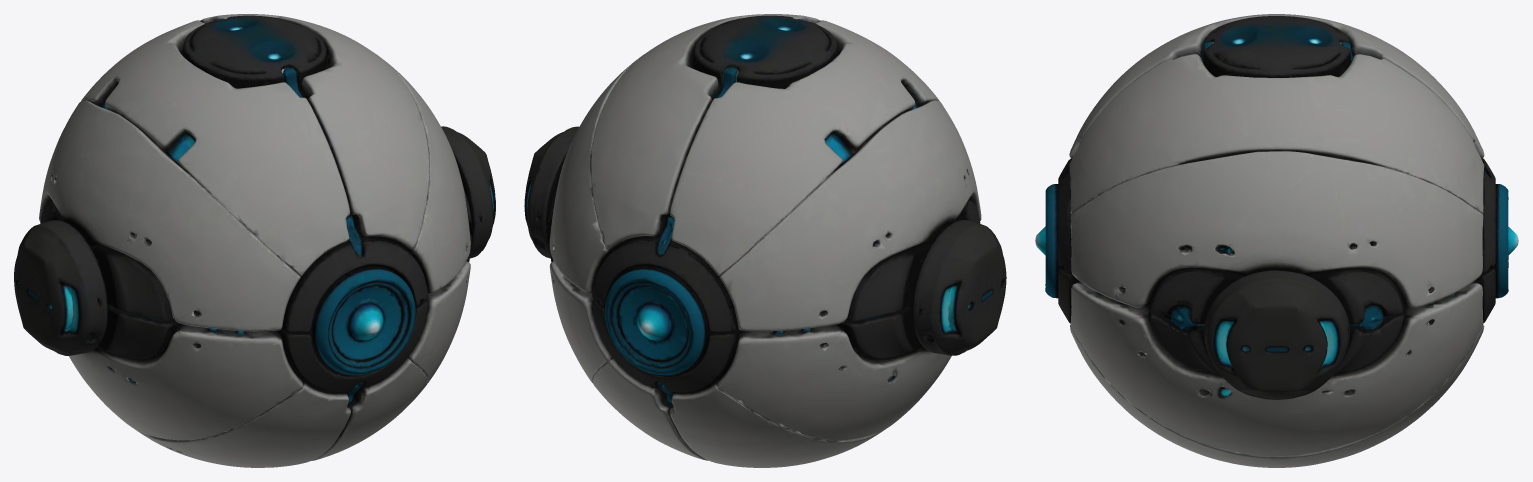
Rendered from pet-drone-lv1.glb.
The picture shows the model from 3 angles, left to right: view 1: azimuth 30°, elevation 25°; view 2: azimuth 150°, elevation 25°; view 3: azimuth 270°, elevation 25°; orthographic projection.
Visible parts, largest first — view 1: tripo_node_85feb7cb-bbb1-46b2-b39f-40758f31ee11; view 2: tripo_node_85feb7cb-bbb1-46b2-b39f-40758f31ee11; view 3: tripo_node_85feb7cb-bbb1-46b2-b39f-40758f31ee11.
Boxes of the visible parts, x1=… form: tripo_node_85feb7cb-bbb1-46b2-b39f-40758f31ee11: x1=14, y1=14, x2=495, y2=467; tripo_node_85feb7cb-bbb1-46b2-b39f-40758f31ee11: x1=524, y1=14, x2=1006, y2=467; tripo_node_85feb7cb-bbb1-46b2-b39f-40758f31ee11: x1=1035, y1=14, x2=1518, y2=467.
Bounding box in the file's own units: 0.9769 × 0.8672 × 0.9157.
1 material, 1 textured.
